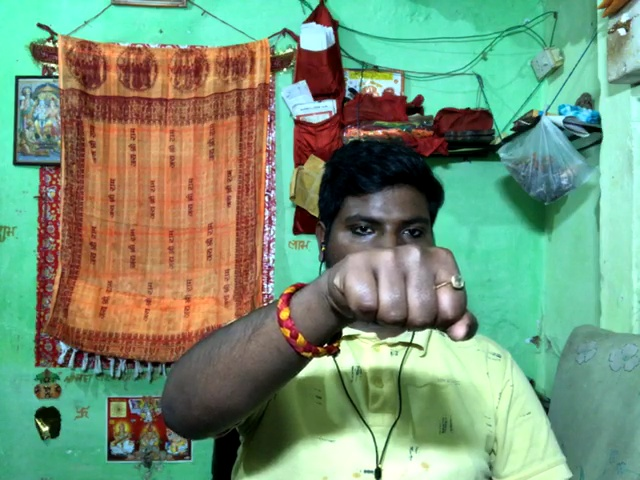Yes: (291, 235, 507, 354)
